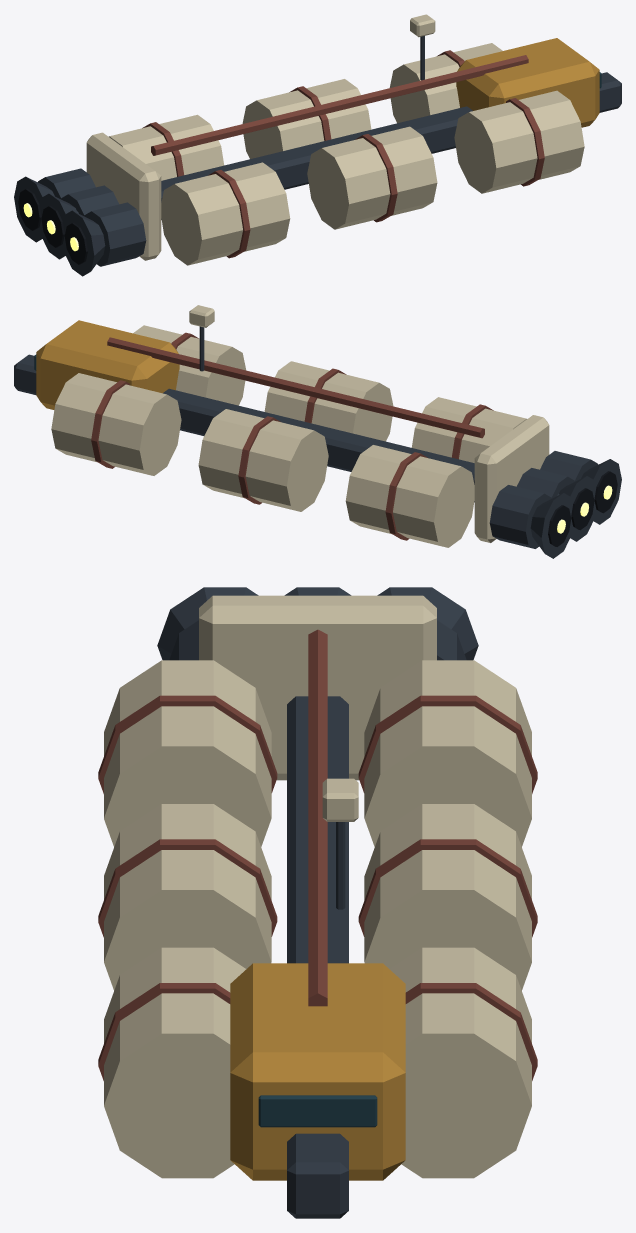
File: borrowed-rain.glb
The picture shows the model from 3 angles, top to bottom: view 1: azimuth 30°, elevation 25°; view 2: azimuth 150°, elevation 25°; view 3: azimuth 270°, elevation 25°; orthographic projection. The views are drawn at different scales.
Visible parts, largest first — view 1: pressure tank.004, pressure tank.002, pressure tank, forward command, pressure tank.003, structural spine, reactor shield, transfer pipe, pressure tank.001, pressure tank.005, engine jacket, engine bell (+13 smaller); view 2: pressure tank.003, pressure tank.005, pressure tank.001, forward command, pressure tank.002, structural spine, reactor shield, transfer pipe, pressure tank, pressure tank.004, engine jacket.002, engine bell.002 (+13 smaller); view 3: forward command, pressure tank.004, pressure tank.005, reactor shield, pressure tank, pressure tank.001, pressure tank.002, pressure tank.003, structural spine, transfer pipe, bridge glazing, tank band (+11 smaller).
Part boxes in pixels (x1=…): pressure tank.004: x1=454, y1=90, x2=584, y2=193; pressure tank.002: x1=307, y1=126, x2=437, y2=229; pressure tank: x1=161, y1=162, x2=290, y2=265; forward command: x1=456, y1=38, x2=599, y2=127; pressure tank.003: x1=242, y1=79, x2=371, y2=158; structural spine: x1=76, y1=72, x2=621, y2=219; reactor shield: x1=86, y1=132, x2=161, y2=260; transfer pipe: x1=151, y1=55, x2=528, y2=155; pressure tank.001: x1=109, y1=114, x2=224, y2=180; pressure tank.005: x1=389, y1=43, x2=502, y2=123; engine jacket: x1=84, y1=202, x2=146, y2=266; engine bell: x1=62, y1=210, x2=105, y2=276; pressure tank.003: x1=198, y1=409, x2=328, y2=511; pressure tank.005: x1=51, y1=373, x2=181, y2=475; pressure tank.001: x1=345, y1=445, x2=474, y2=547; forward command: x1=36, y1=320, x2=179, y2=409; pressure tank.002: x1=264, y1=361, x2=393, y2=441; structural spine: x1=14, y1=354, x2=559, y2=501; reactor shield: x1=474, y1=415, x2=549, y2=542; transfer pipe: x1=107, y1=337, x2=484, y2=438; pressure tank: x1=411, y1=397, x2=526, y2=462; pressure tank.004: x1=133, y1=325, x2=246, y2=405; engine jacket.002: x1=489, y1=485, x2=551, y2=548; engine bell.002: x1=530, y1=493, x2=573, y2=558; forward command: x1=230, y1=963, x2=405, y2=1180; pressure tank.004: x1=104, y1=947, x2=246, y2=1178; pressure tank.005: x1=389, y1=947, x2=531, y2=1178; reactor shield: x1=199, y1=595, x2=436, y2=780; pressure tank: x1=104, y1=660, x2=271, y2=846; pressure tank.001: x1=364, y1=660, x2=531, y2=846; pressure tank.002: x1=104, y1=804, x2=271, y2=990; pressure tank.003: x1=364, y1=804, x2=531, y2=990; structural spine: x1=287, y1=696, x2=348, y2=1218; transfer pipe: x1=308, y1=629, x2=327, y2=1006; bridge glazing: x1=258, y1=1095, x2=377, y2=1127; tank band: x1=98, y1=695, x2=277, y2=793.
Size of the model in its own units: 11.54 by 2.89 by 3.88.
